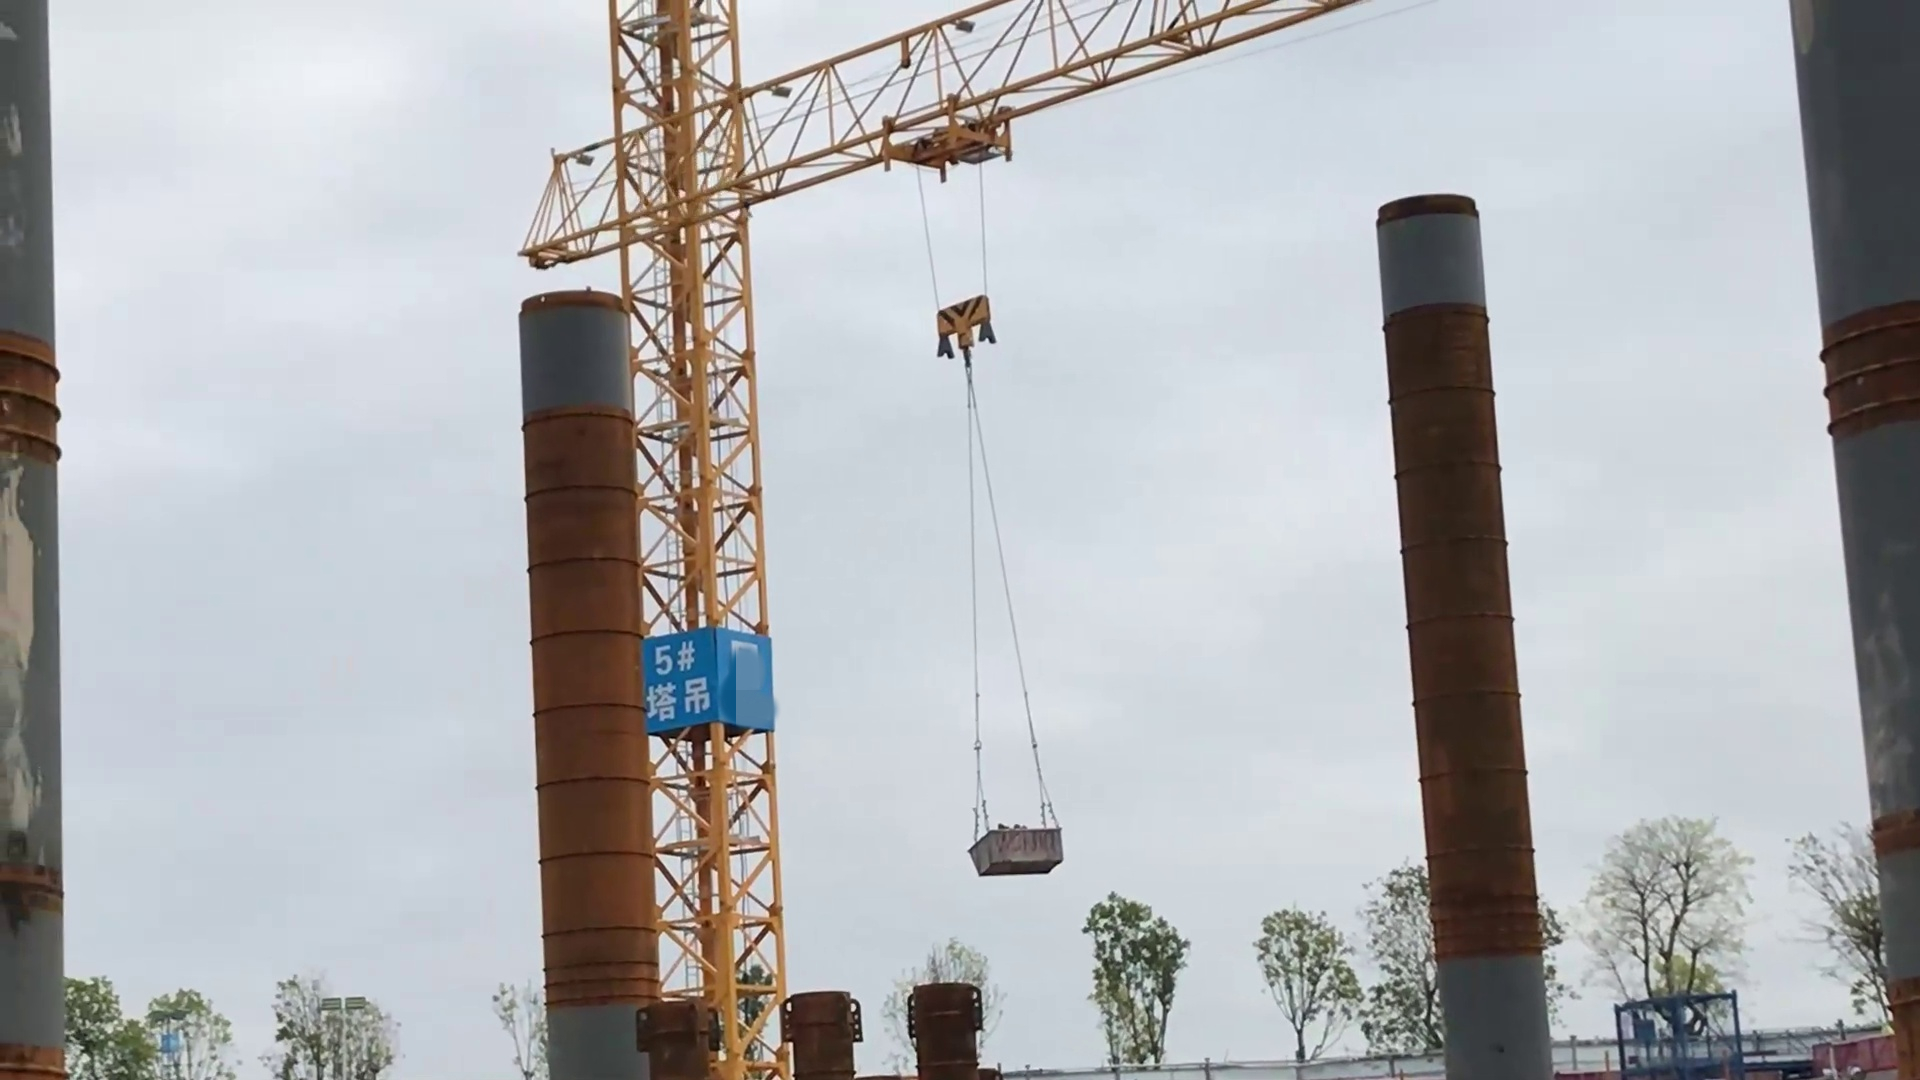hook: (894, 251, 1023, 369)
hopper: (964, 808, 1073, 891)
